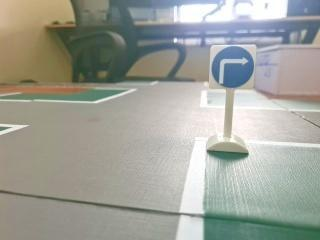right: (207, 41, 259, 90)
